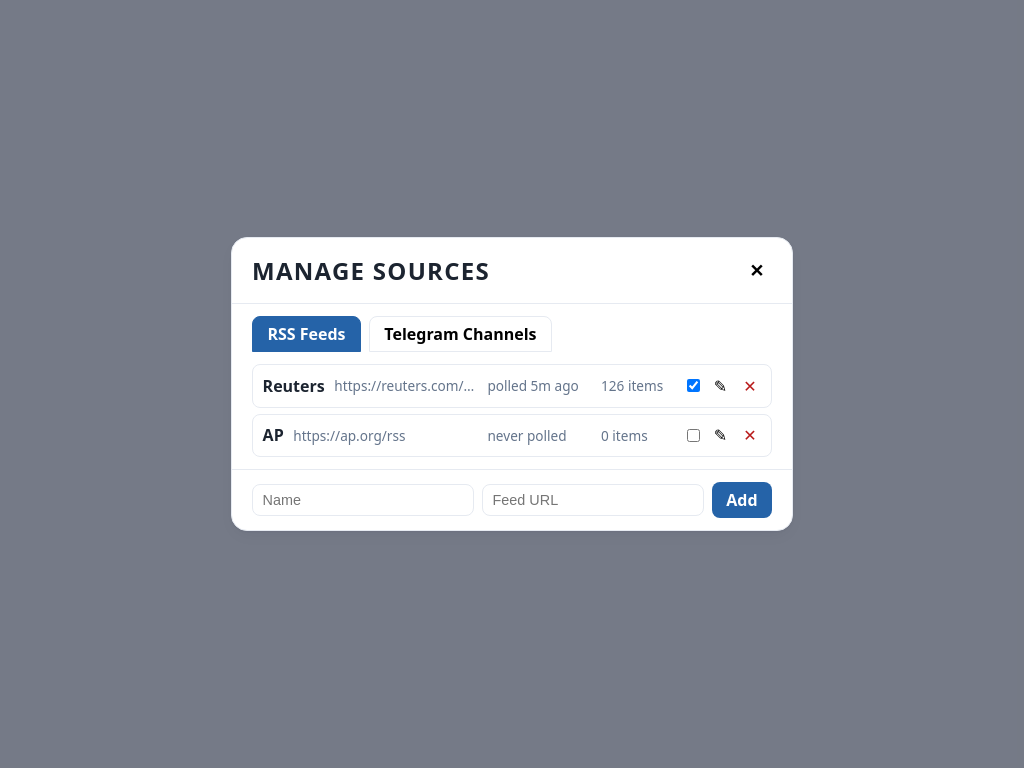
Test: SourcesModal › a successful mutation clears a previously shown error
This screenshot has width=1024, height=768.
Expected: the text "Reuters" is shown, [263,375,325,397]
Type "BBC" into the field with placeholder "Name" at [363, 500], box [252,484,474,516]
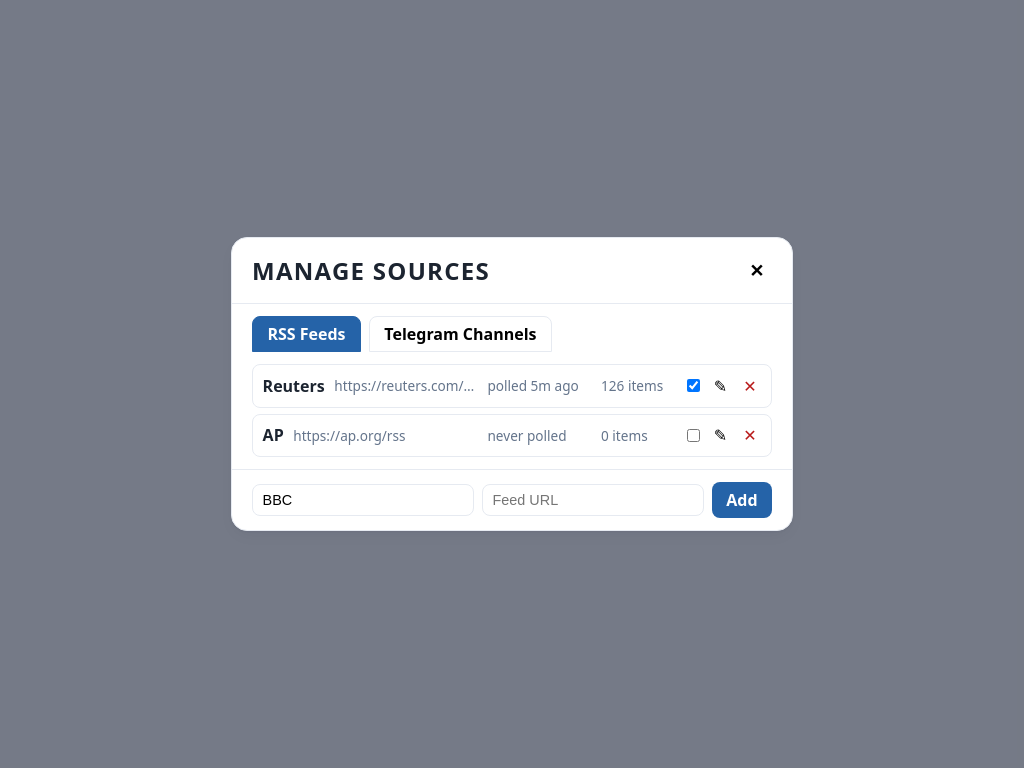
Type "https://bbc.com/rss" into the field with placeholder "Feed URL" at [593, 500], box [482,484,704,516]
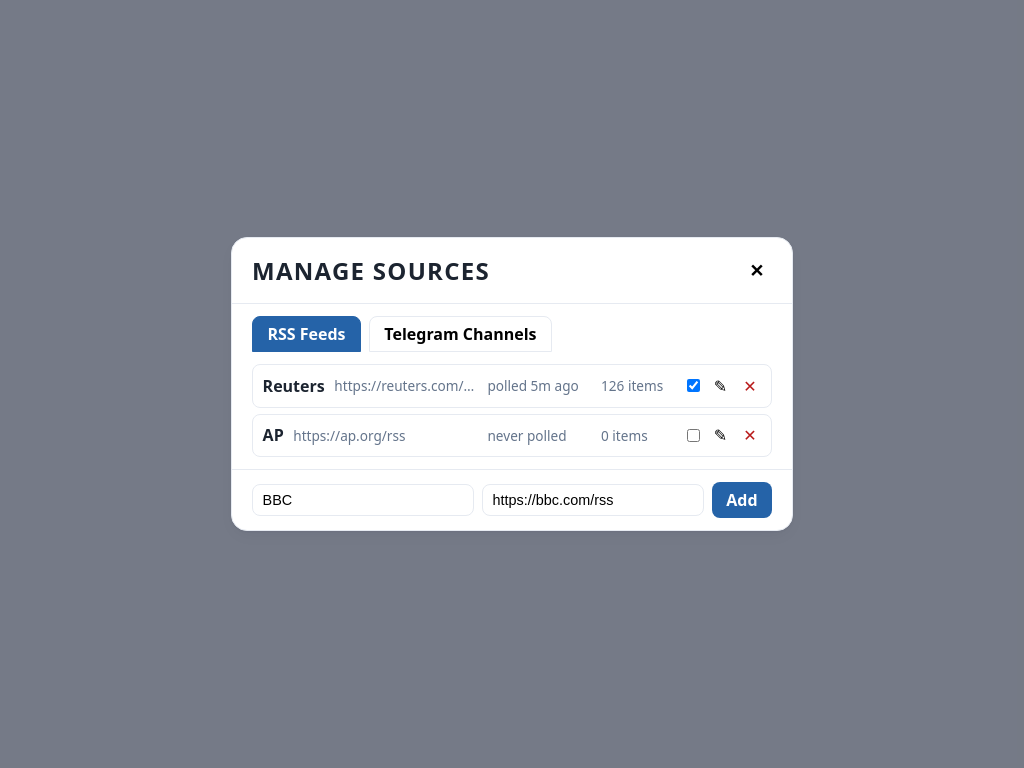
Click the button "Add" at [742, 500], box [712,482,772,518]
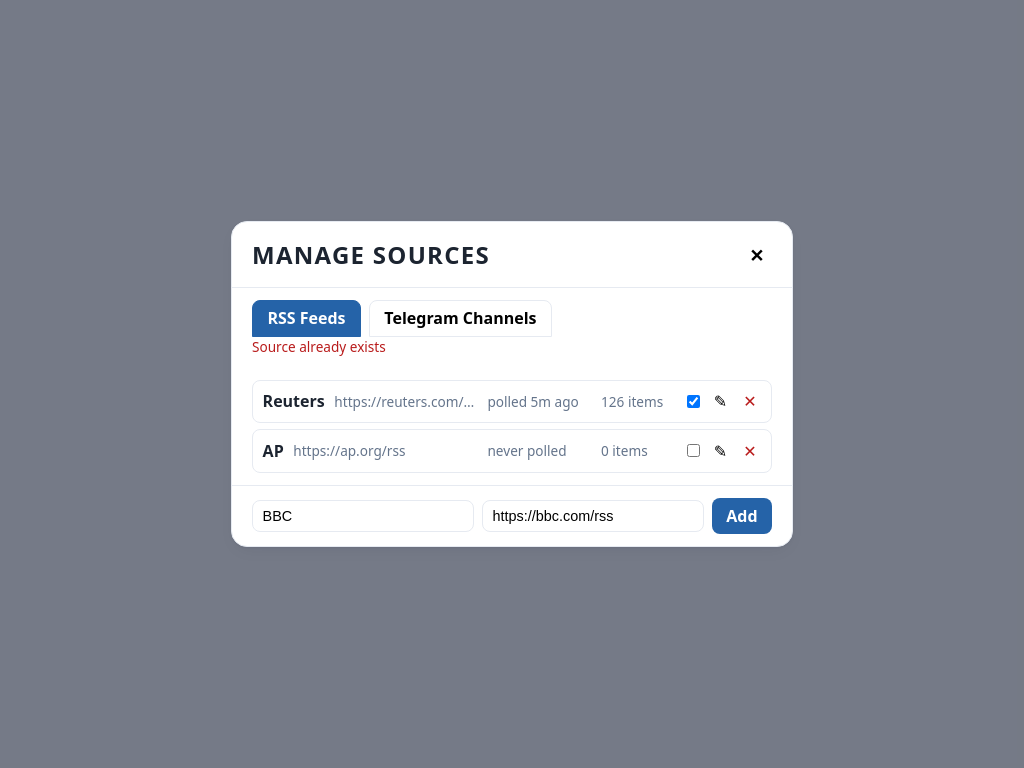
Now the text "Source already exists" is shown, box [252,337,386,356]
Click the checkbox next to "126 items" at [693, 401], box [687,395,700,408]
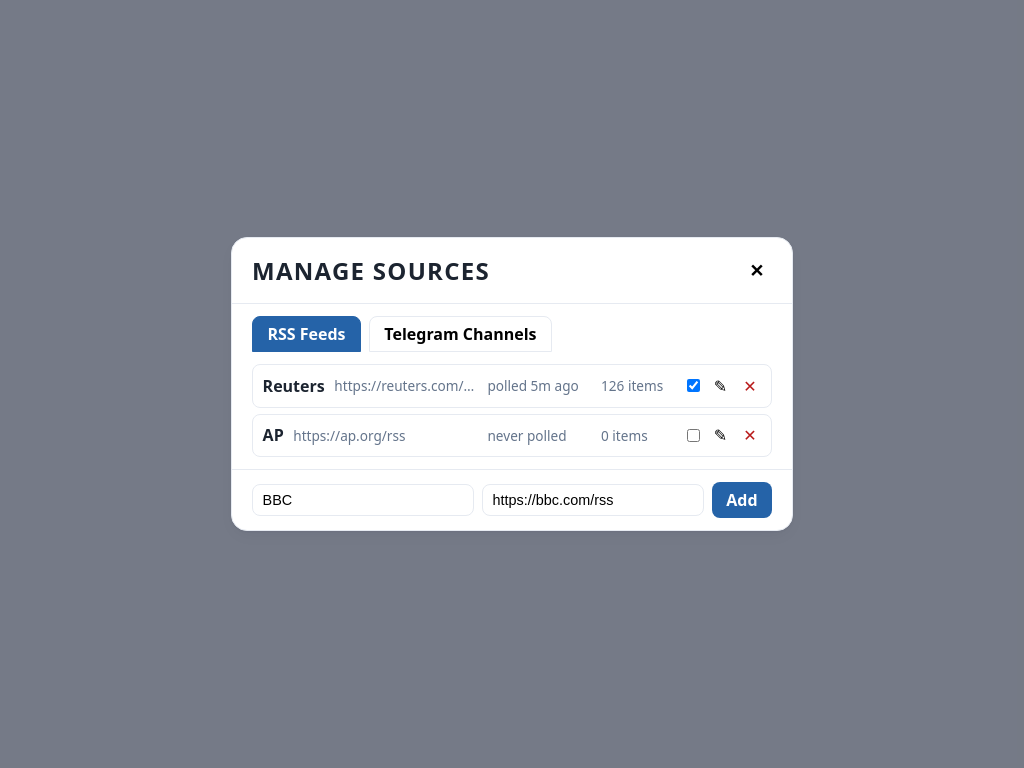
Now the text "Source already exists" is gone
